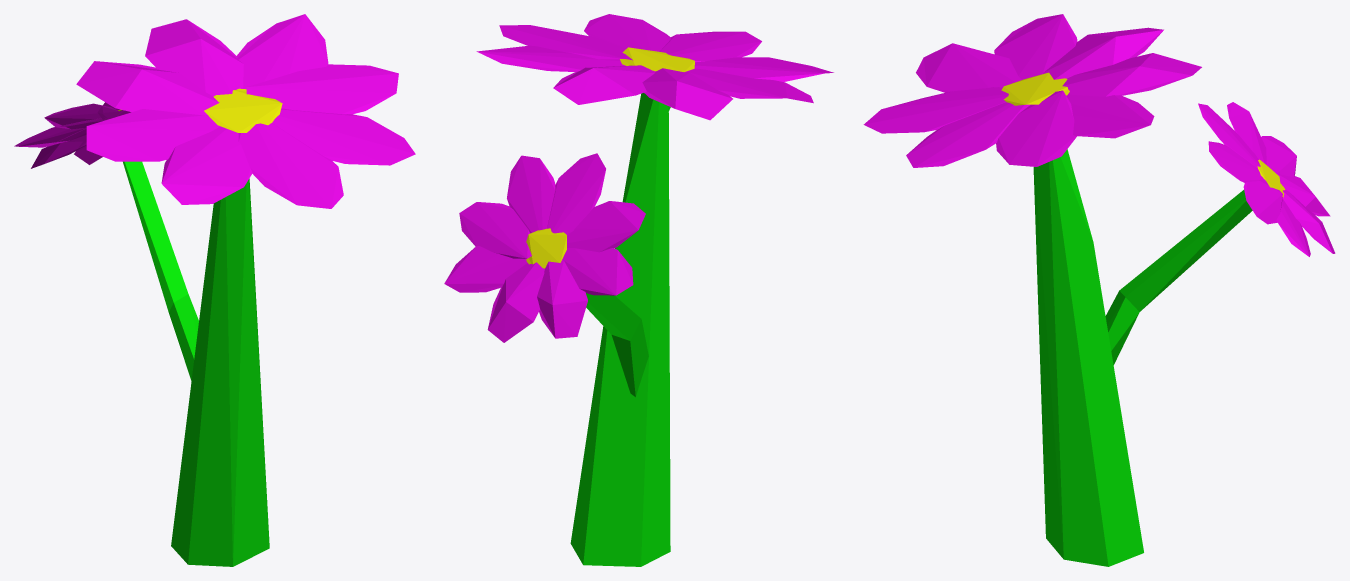
The model's file is Flower#5.002.fbx.
The picture shows the model from 3 angles, left to right: view 1: azimuth 30°, elevation 25°; view 2: azimuth 150°, elevation 25°; view 3: azimuth 270°, elevation 25°; orthographic projection. The views are drawn at different scales.
Parts seen in each view (by area): view 1: Flower#5.002; view 2: Flower#5.002; view 3: Flower#5.002.
Part boxes in pixels (x1,y1,x2,y2): Flower#5.002: [14, 14, 415, 566]; Flower#5.002: [444, 14, 833, 566]; Flower#5.002: [863, 14, 1335, 566].
Bounding box in the file's own units: 25.68 × 38.76 × 34.33.
